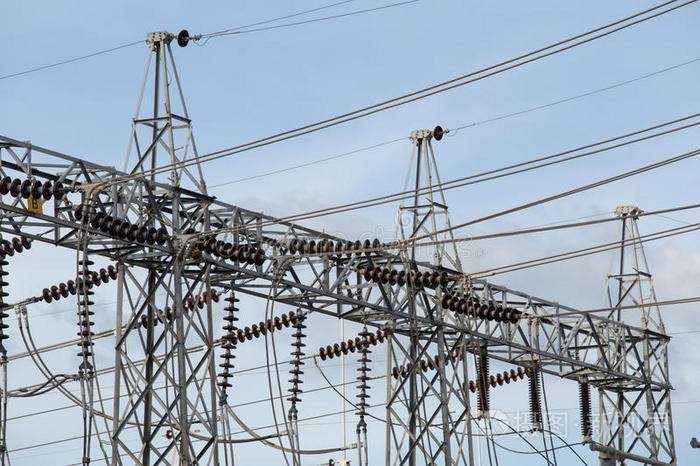insulator: (72, 204, 167, 243), (141, 288, 224, 328), (42, 263, 122, 300), (316, 326, 397, 357), (441, 291, 521, 322), (285, 313, 311, 403), (223, 313, 297, 344), (218, 293, 242, 386), (392, 351, 465, 381), (74, 255, 94, 360), (196, 236, 268, 265), (287, 236, 383, 257), (352, 329, 374, 417), (362, 264, 450, 286), (467, 366, 537, 391), (1, 174, 64, 201), (1, 259, 10, 356), (1, 234, 32, 254)
